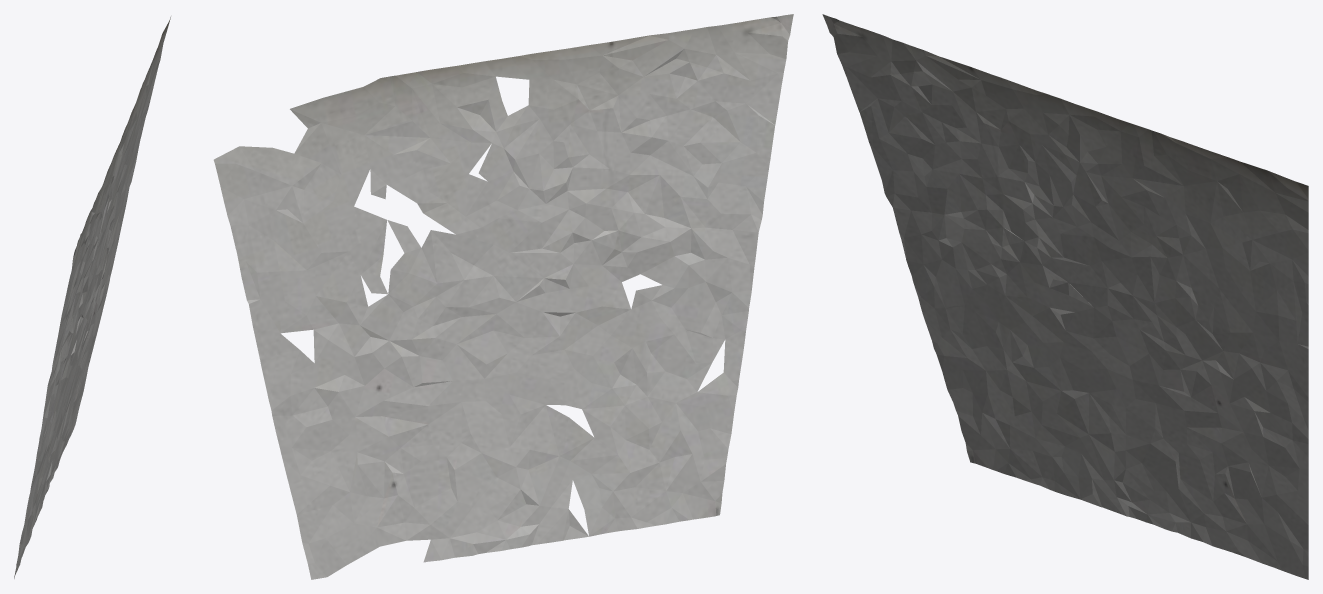
3 views of the same model, side by side, from view 1: azimuth 30°, elevation 25°; view 2: azimuth 150°, elevation 25°; view 3: azimuth 270°, elevation 25° (orthographic). The views are drawn at different scales.
Bounding box in the file's own units: 0.6882 × 0.8373 × 0.8229.
3 materials, 3 textured.
